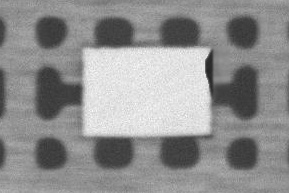DIE_BROKEN: (203, 50, 215, 92)
